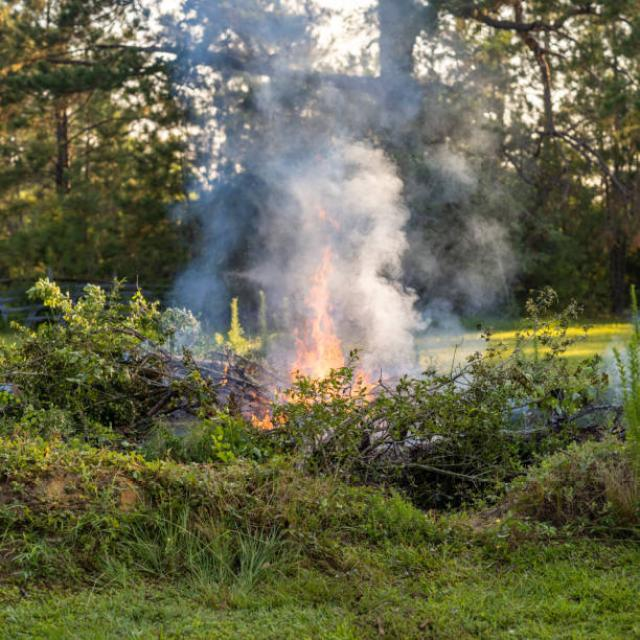fire: (250, 207, 376, 431)
